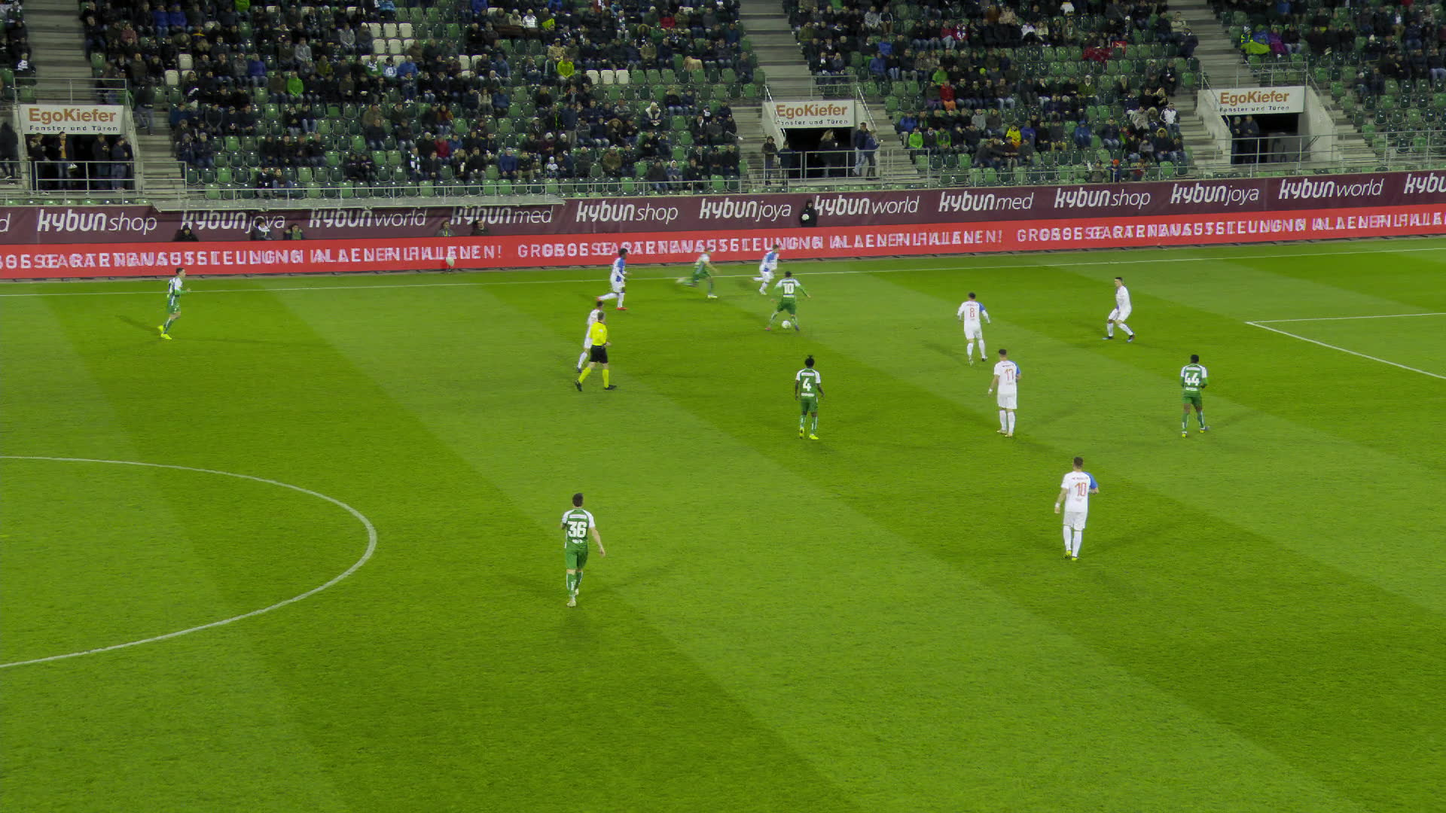ball: (782, 321, 791, 328)
player: (561, 492, 603, 607), (1054, 457, 1098, 562), (989, 348, 1021, 437), (154, 267, 190, 340), (571, 300, 605, 373), (794, 355, 823, 440), (1179, 354, 1207, 439), (957, 292, 990, 364), (772, 270, 810, 331), (1103, 275, 1132, 343), (596, 249, 628, 309), (745, 244, 776, 294), (682, 248, 706, 299)
referee: (575, 313, 611, 391)
